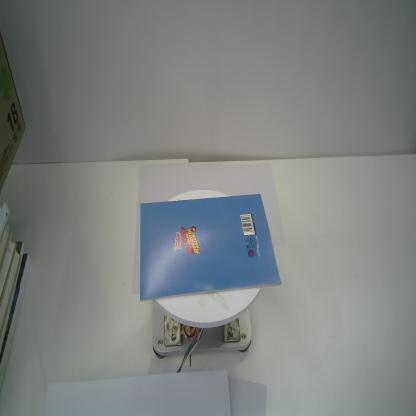Stationery: (140, 193, 282, 302)
